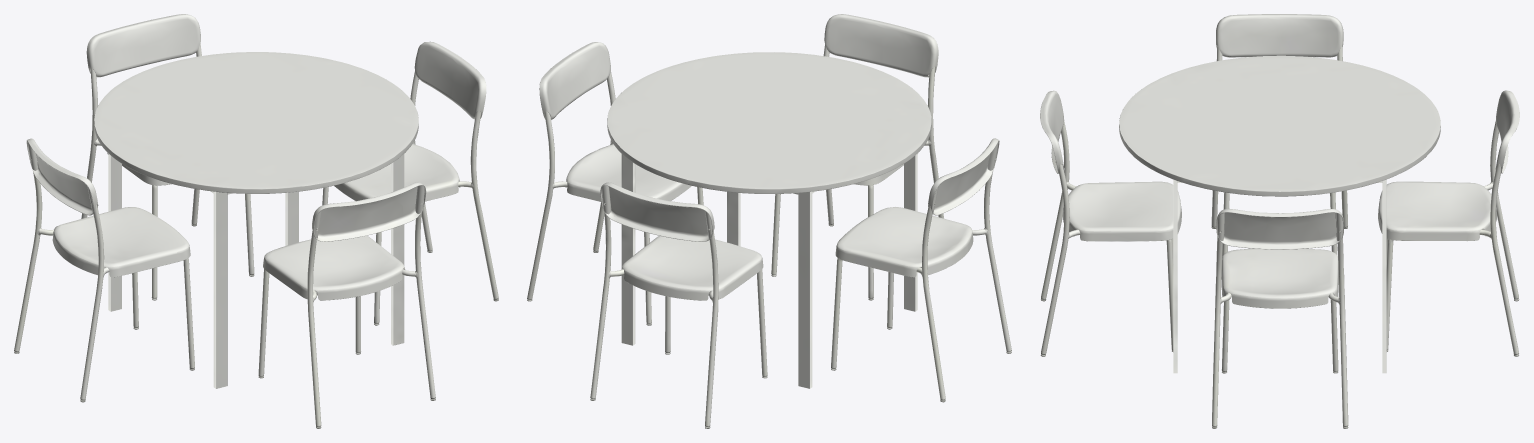
The model's file is vihals_vihals_sto_i_4_krzesa_99589944.glb.
The picture shows the model from 3 angles, left to right: view 1: azimuth 30°, elevation 25°; view 2: azimuth 150°, elevation 25°; view 3: azimuth 270°, elevation 25°; orthographic projection.
Parts seen in each view (by area): view 1: vihals_vihals_sto_i_4_krzesa_99589944; view 2: vihals_vihals_sto_i_4_krzesa_99589944; view 3: vihals_vihals_sto_i_4_krzesa_99589944.
Boxes of the visible parts, box(x1,y1,x2,y2) form: vihals_vihals_sto_i_4_krzesa_99589944: box(14, 14, 498, 428); vihals_vihals_sto_i_4_krzesa_99589944: box(527, 14, 1011, 428); vihals_vihals_sto_i_4_krzesa_99589944: box(1040, 14, 1519, 428).
Size of the model in its own units: 1.6 by 0.7904 by 1.6.
Materials: 1 (1 with a texture image).
